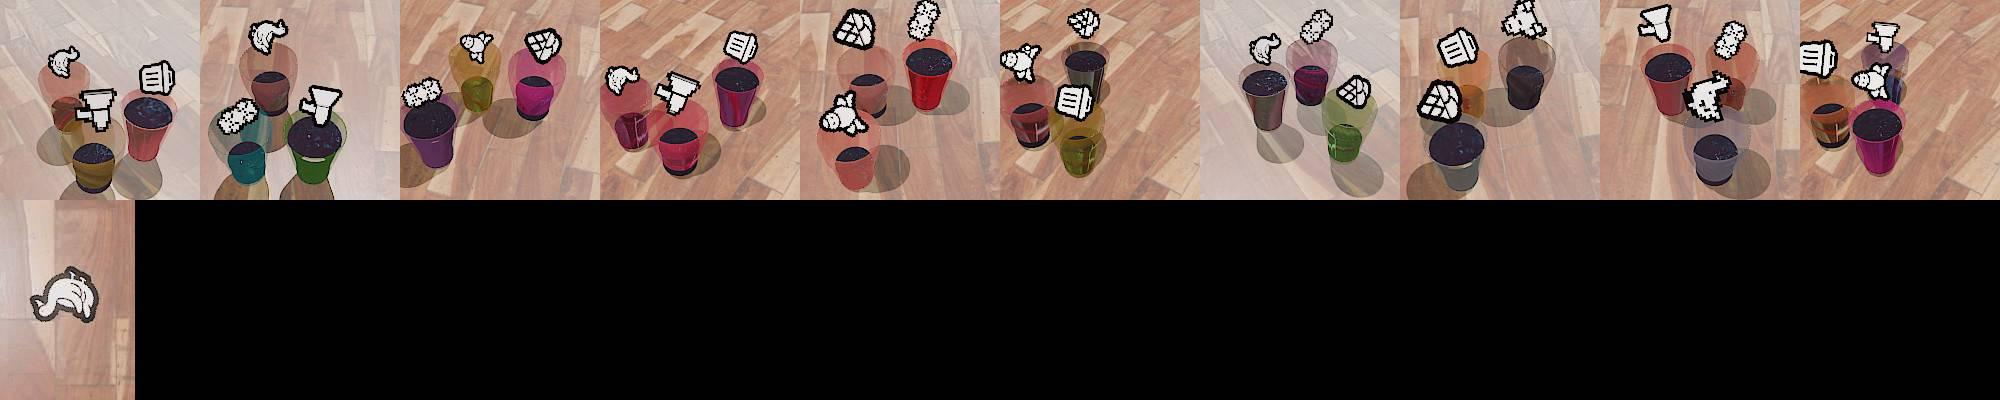icon: (30, 259, 112, 329), (1684, 70, 1732, 122), (820, 89, 869, 137), (653, 69, 702, 115), (1416, 78, 1461, 123), (832, 8, 877, 50), (1500, 0, 1547, 40), (1436, 26, 1480, 68), (77, 87, 118, 132), (215, 96, 261, 136), (299, 83, 343, 124), (1851, 62, 1896, 100), (1000, 42, 1041, 83), (1798, 40, 1839, 80), (1054, 82, 1095, 121), (248, 18, 288, 56), (906, 0, 942, 41), (1636, 4, 1674, 42), (523, 27, 563, 63), (1713, 20, 1748, 61), (1298, 8, 1335, 45), (1335, 74, 1374, 109), (139, 60, 176, 96), (403, 75, 442, 108), (722, 30, 759, 64), (604, 64, 642, 97), (1066, 7, 1100, 42), (47, 45, 81, 80), (1249, 32, 1283, 66), (460, 31, 494, 64), (1869, 21, 1901, 54)
